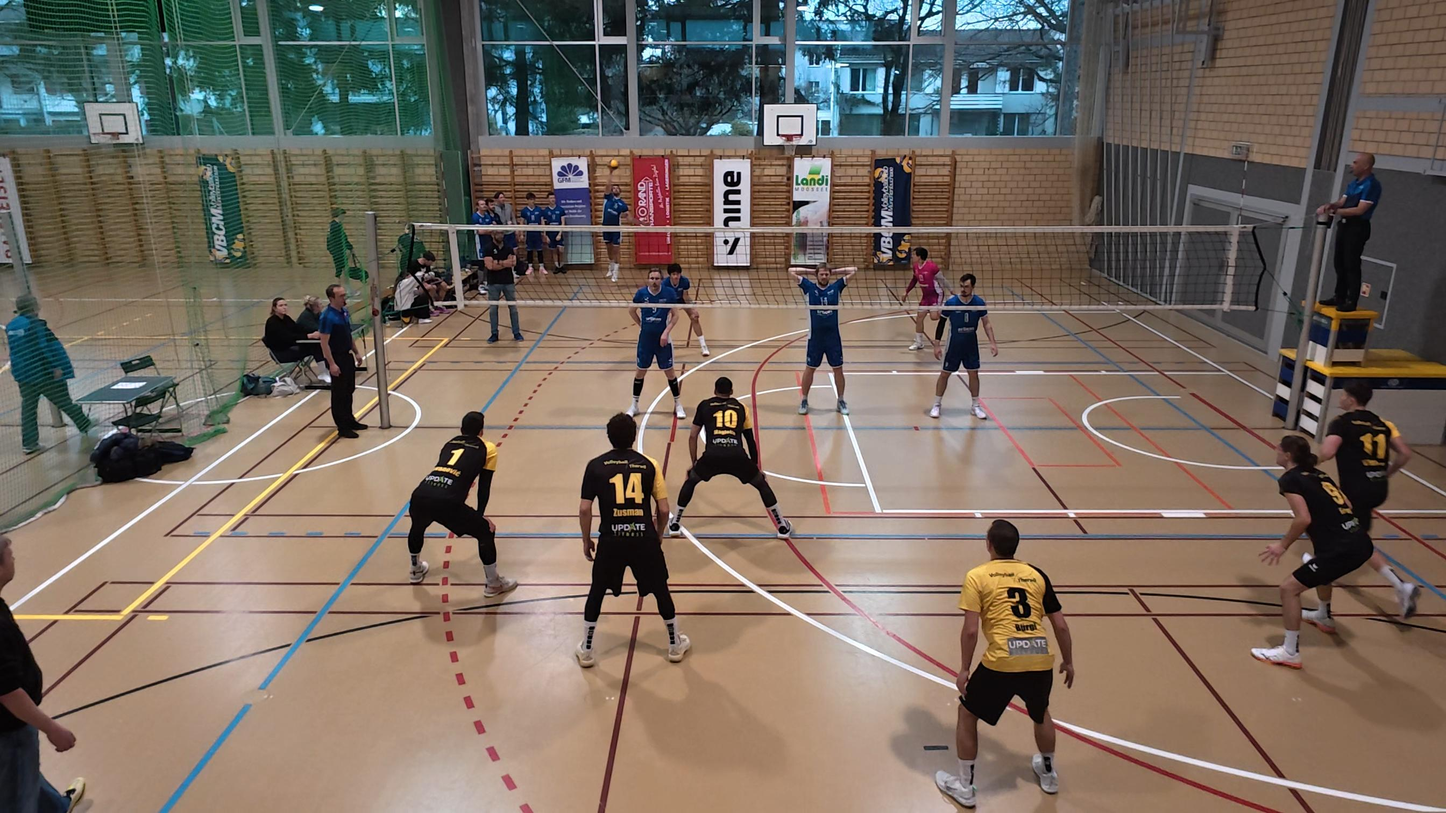Player: (934, 521, 1073, 807), (1250, 433, 1380, 668), (577, 413, 691, 666), (1314, 382, 1420, 617), (403, 408, 520, 601), (667, 377, 795, 536), (927, 272, 996, 420), (795, 265, 854, 414), (626, 269, 682, 423), (901, 244, 946, 352), (663, 260, 711, 357)
Serve: (591, 160, 634, 285)
ball: (609, 156, 626, 172)
